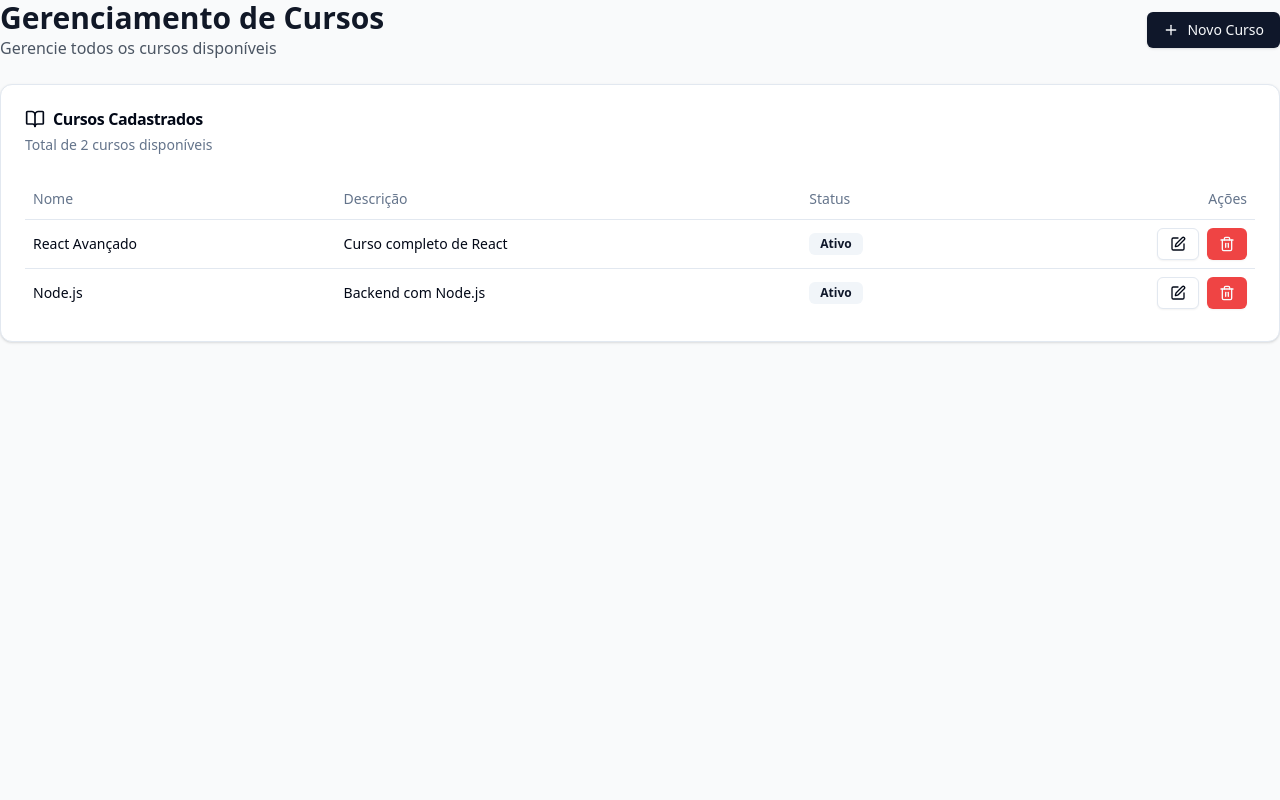
CursosPage › deve mostrar formulário ao clicar em Novo Curso
This screenshot has width=1280, height=800.
Click the button "Novo Curso" at (1214, 30), box [1148,12,1279,48]
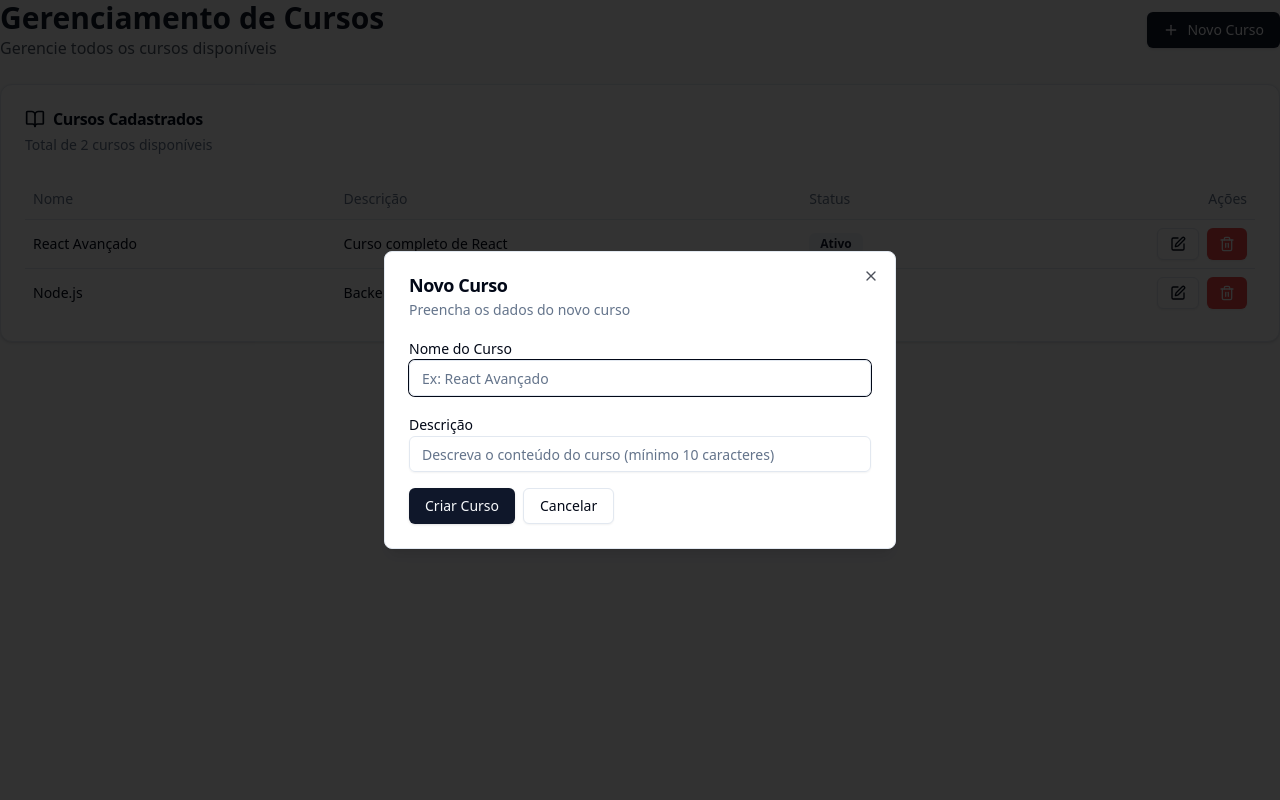
expect the text "Preencha os dados do novo curso" is shown: met, box [409,300,630,319]
expect the field labelled "Nome do Curso" is shown: met, box [409,360,871,396]
expect the field labelled "Descrição" is shown: met, box [409,436,871,472]
